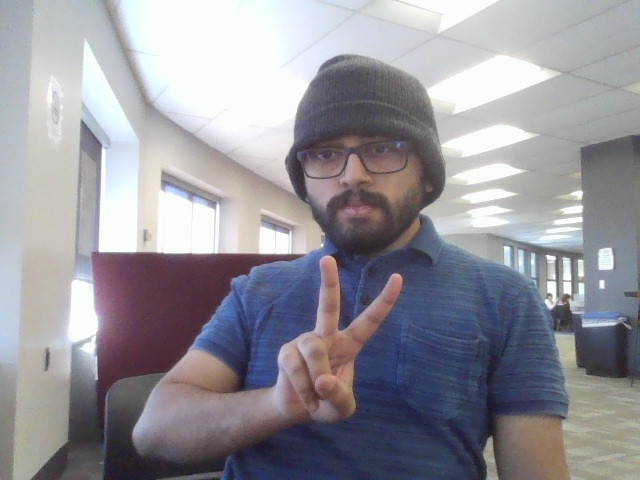start: (272, 254, 408, 447)
